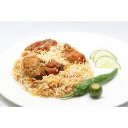briyani: (20, 41, 90, 95)
